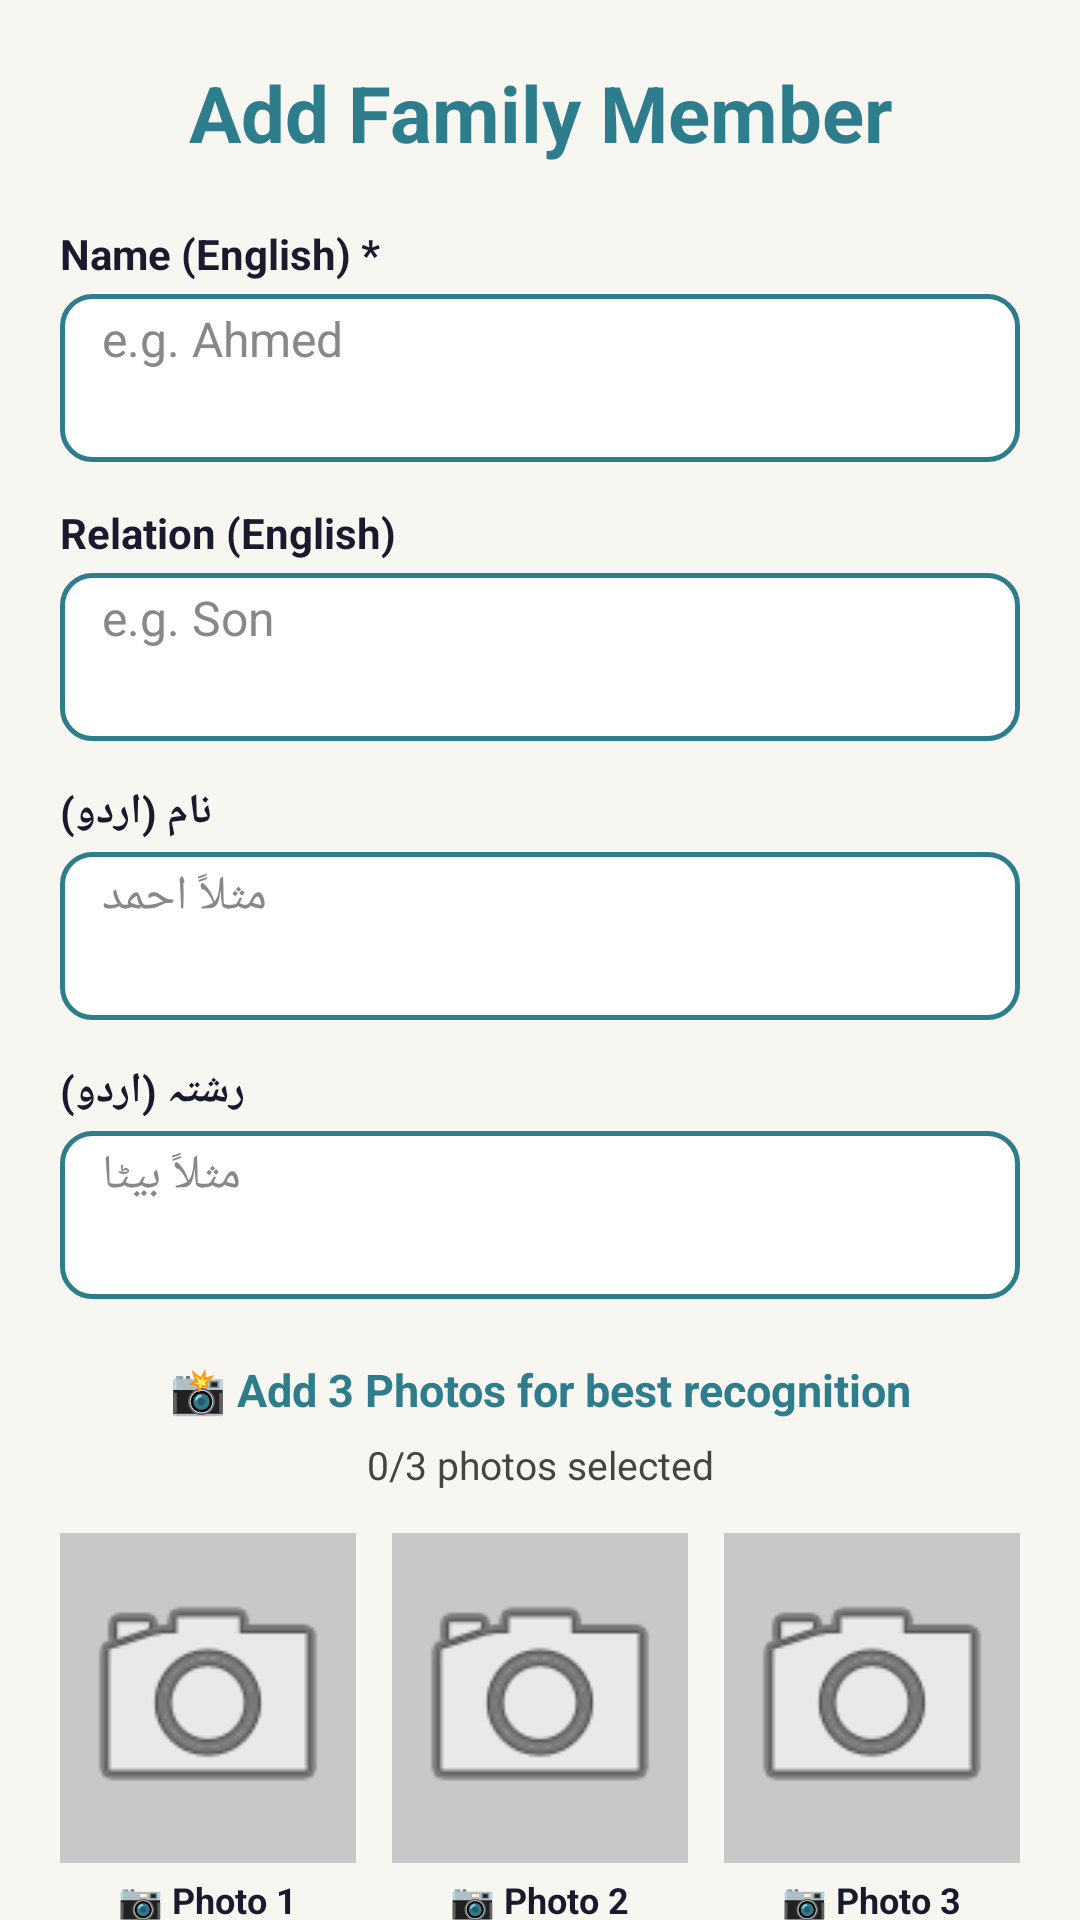

Where icons sit on this 1080 x 1920 app screen, as (x1, y1, x2, y2):
camera: (60, 1533, 356, 1863), (392, 1533, 688, 1863), (724, 1533, 1020, 1863)
